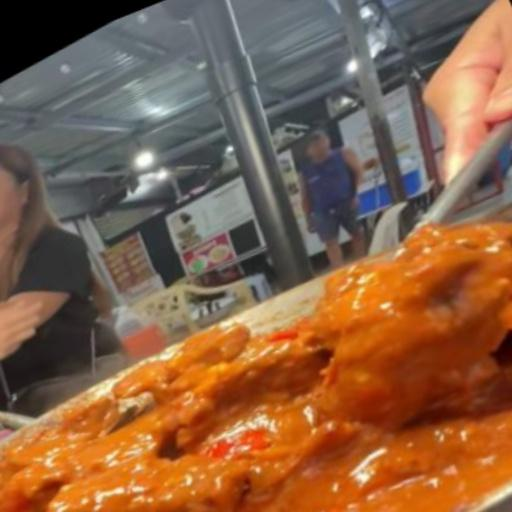pork caldereta: (0, 222, 511, 511)
